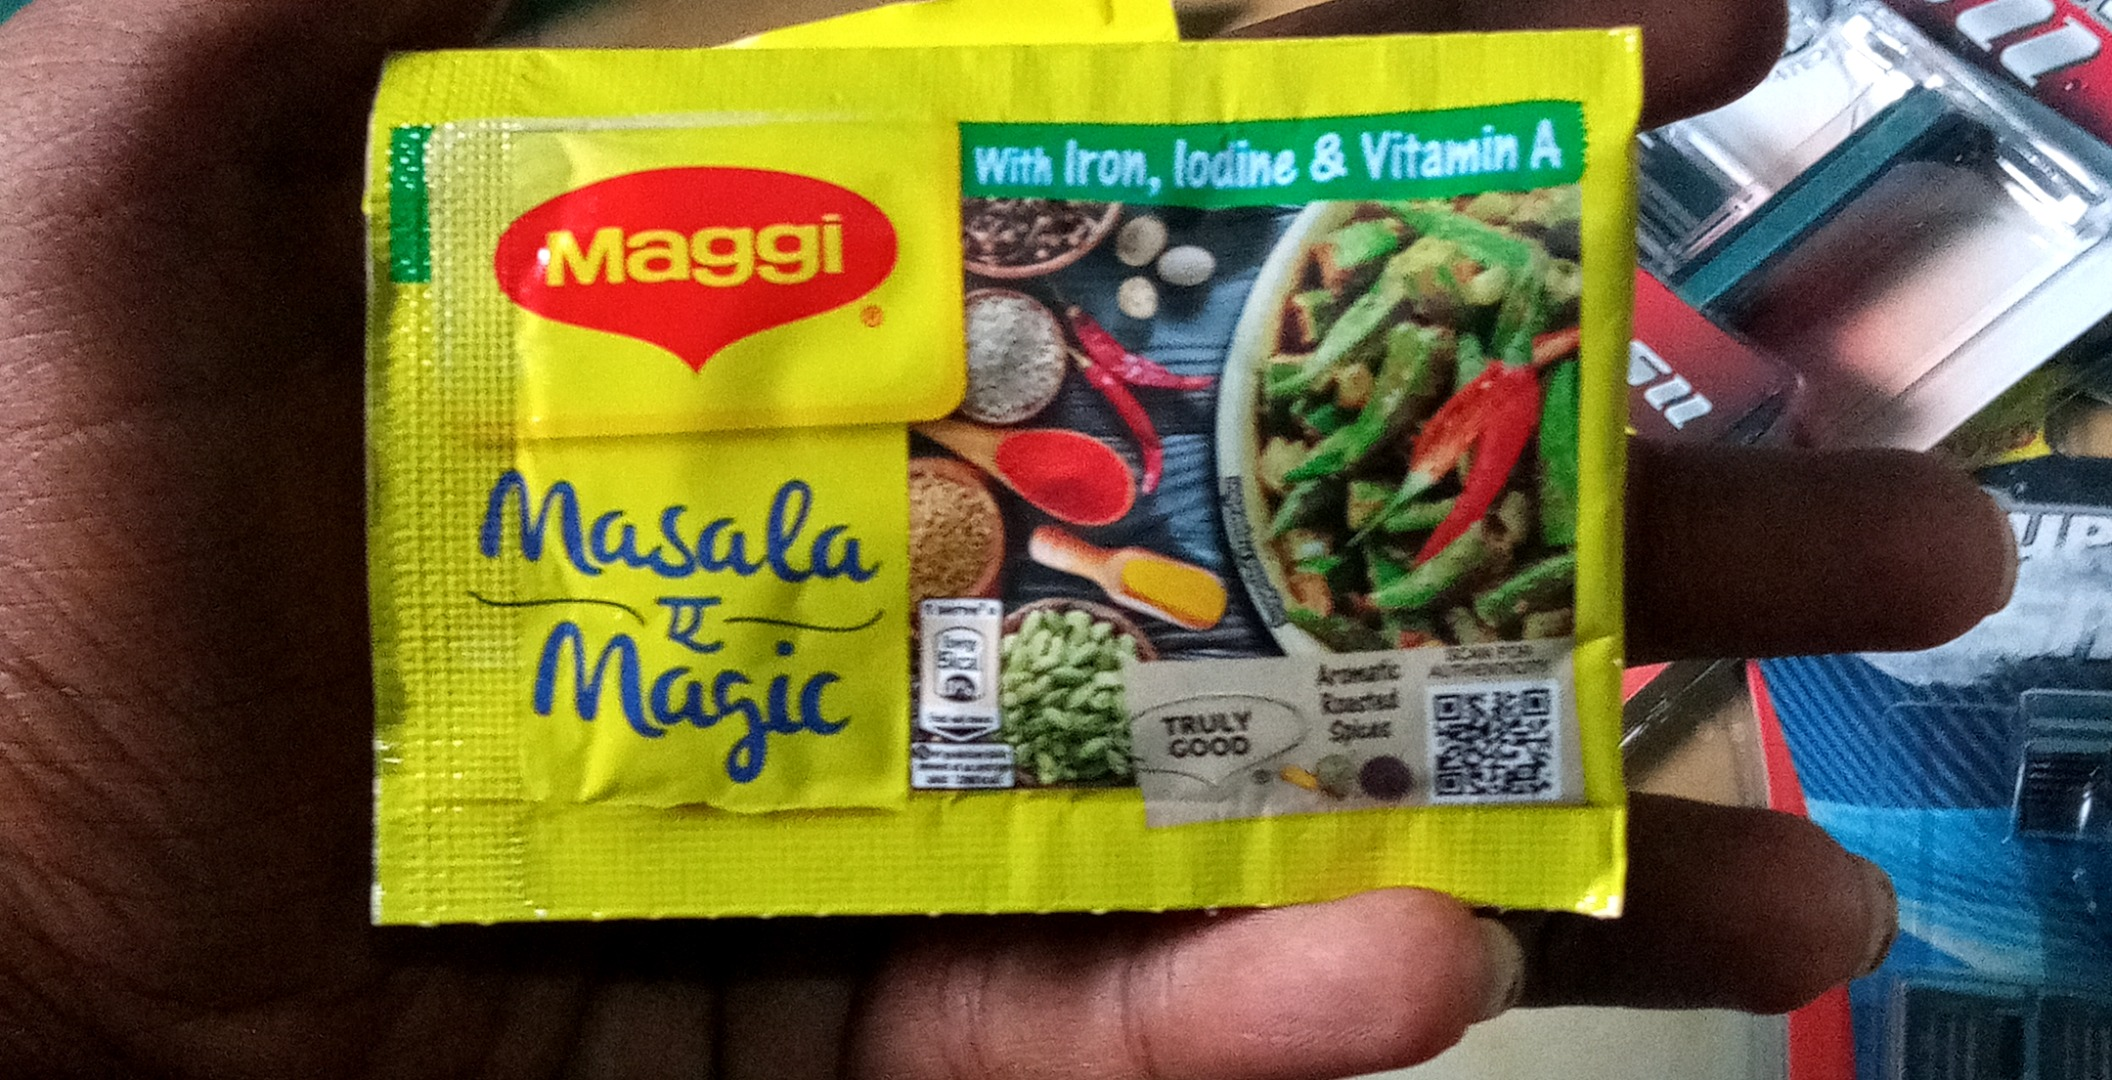qr_code: (1432, 679, 1563, 816)
